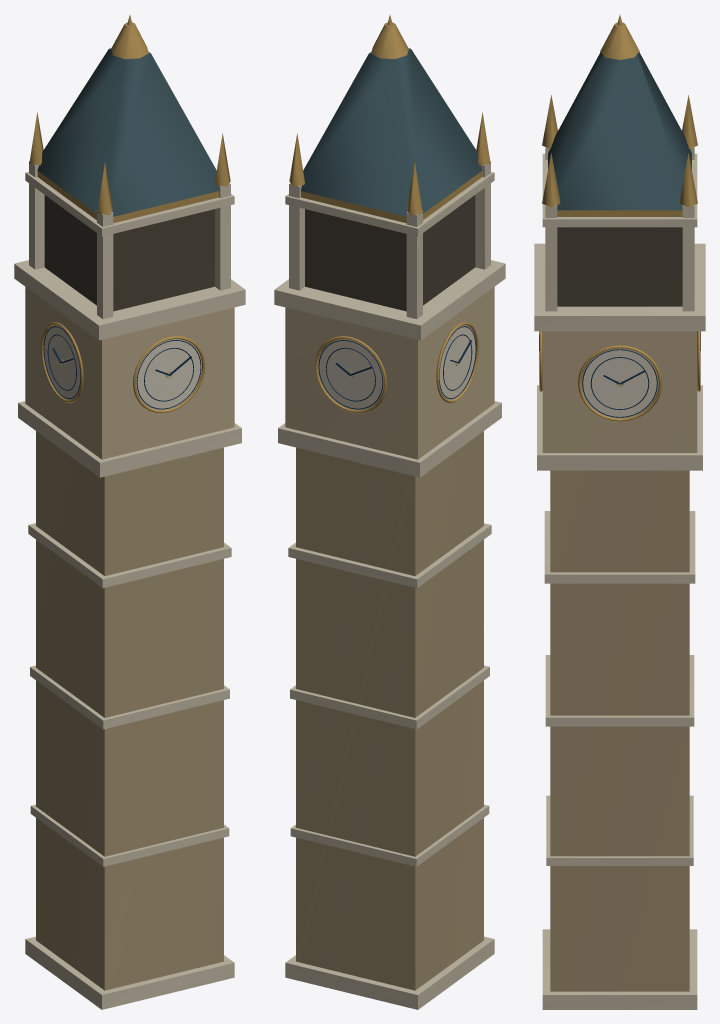
Rendered from landmark-big-ben-far-v2.glb.
3 views of the same model, side by side, from view 1: azimuth 30°, elevation 25°; view 2: azimuth 150°, elevation 25°; view 3: azimuth 270°, elevation 25° (orthographic).
Parts seen in each view (by area): view 1: Big Ben; view 2: Big Ben; view 3: Big Ben.
Part boxes in pixels (left/top/right/bottom): Big Ben: left=14, top=15, right=245, bottom=1009; Big Ben: left=274, top=15, right=505, bottom=1009; Big Ben: left=534, top=15, right=705, bottom=1009.
Bounding box in the file's own units: 0.1615 × 1 × 0.1615.
